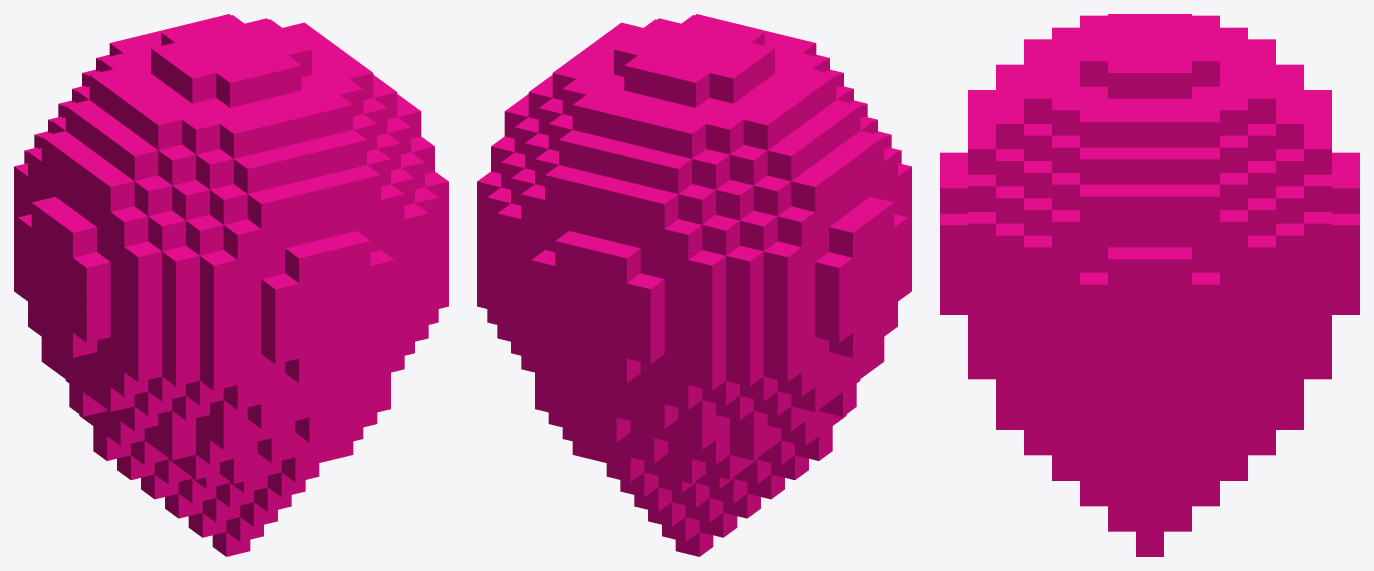
Rendered from Ballon.dae.
3 renders of one model, left to right at view 1: azimuth 30°, elevation 25°; view 2: azimuth 150°, elevation 25°; view 3: azimuth 270°, elevation 25°, orthographic.
Visible parts, largest first — view 1: Ballon; view 2: Ballon; view 3: Ballon.
Boxes of the visible parts, x1=… form: Ballon: x1=14, y1=14, x2=448, y2=556; Ballon: x1=477, y1=14, x2=911, y2=556; Ballon: x1=940, y1=14, x2=1359, y2=556.
Size of the model in its own units: 1.5 by 1.5 by 2.
Materials: 1 (1 with a texture image).
